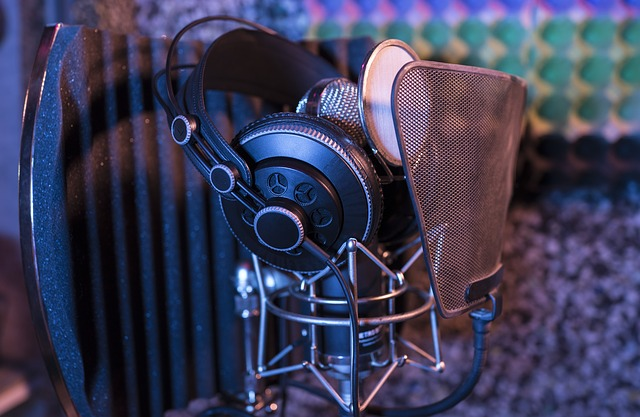headphones: (152, 16, 384, 274)
